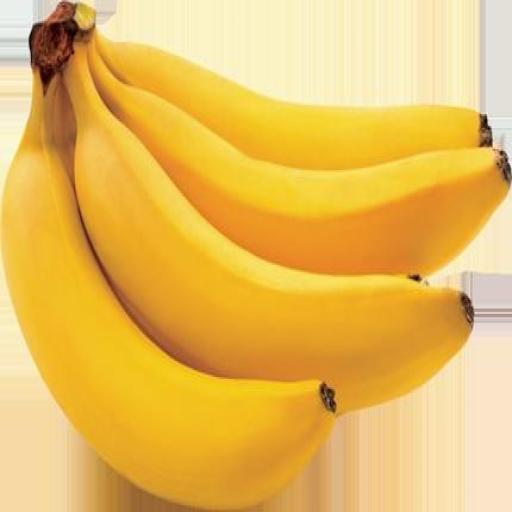banana: (65, 44, 471, 412), (2, 74, 334, 510), (89, 43, 509, 275), (97, 34, 491, 168)
